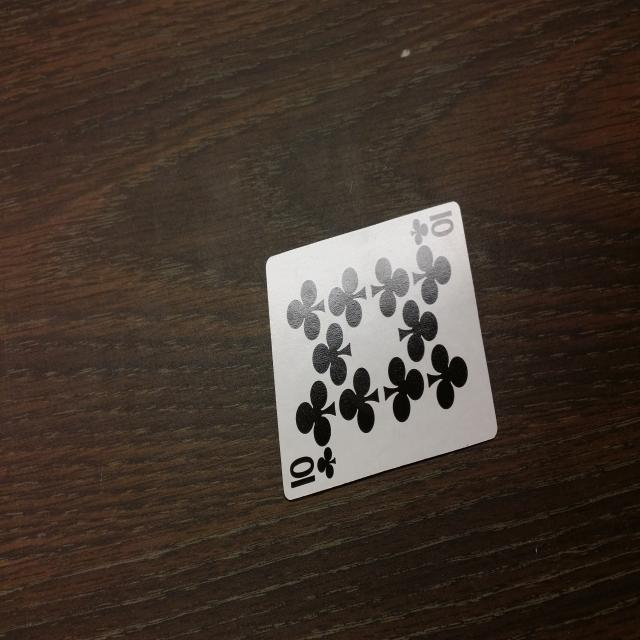10c: (281, 432, 341, 502), (401, 188, 462, 254)
